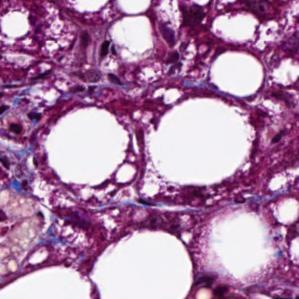inflammation: (0, 101, 44, 136), (96, 39, 125, 68)
